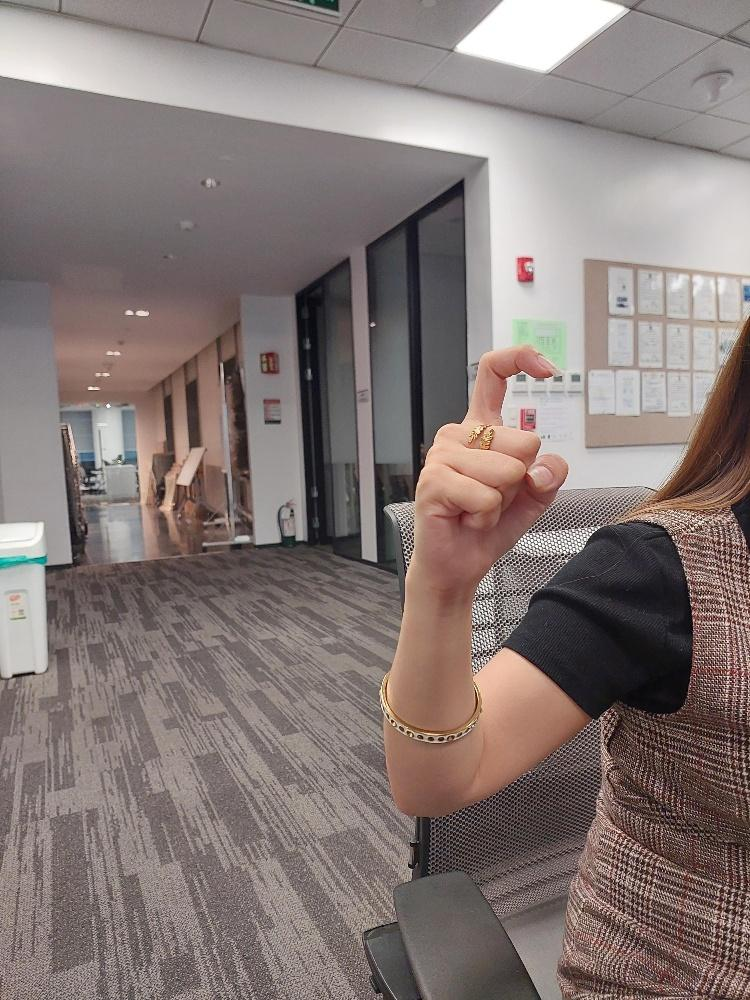x: (409, 340, 571, 586)
